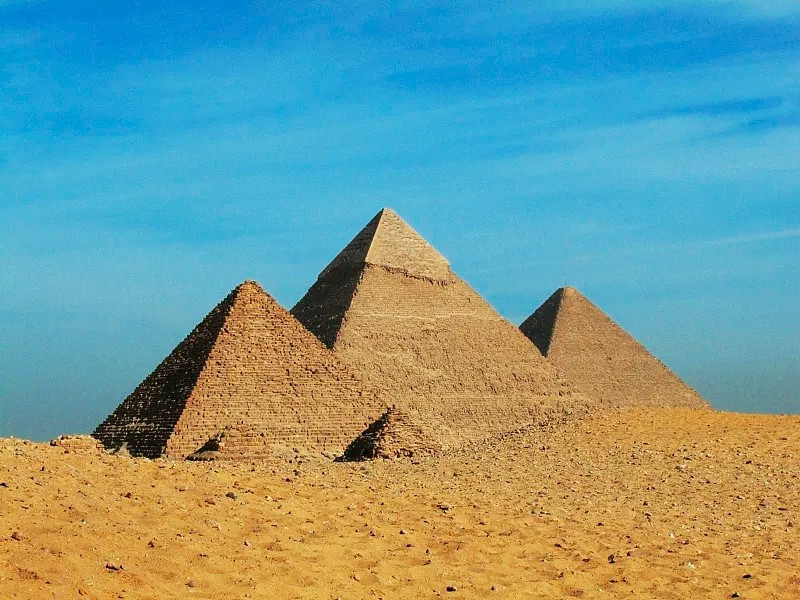Pyramid: (290, 207, 605, 448), (90, 281, 389, 455), (520, 286, 710, 409), (344, 409, 445, 459), (186, 421, 280, 462)
